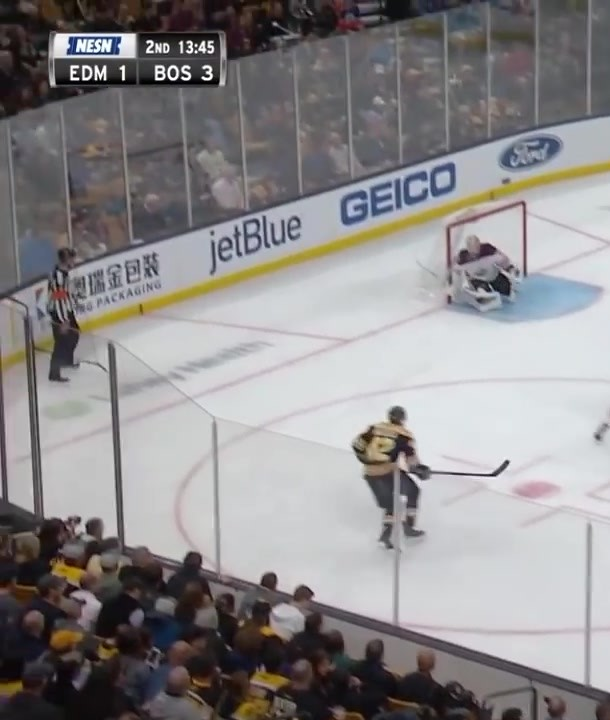Geico: (333, 157, 463, 234)
